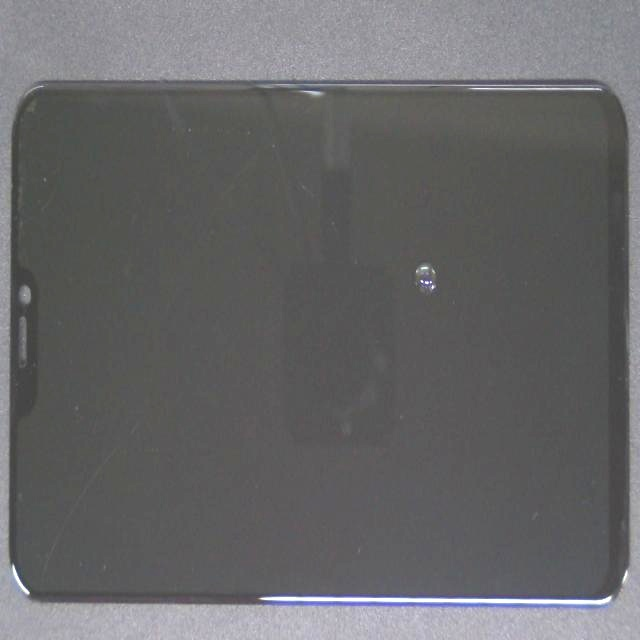oil: (222, 115, 627, 383)
